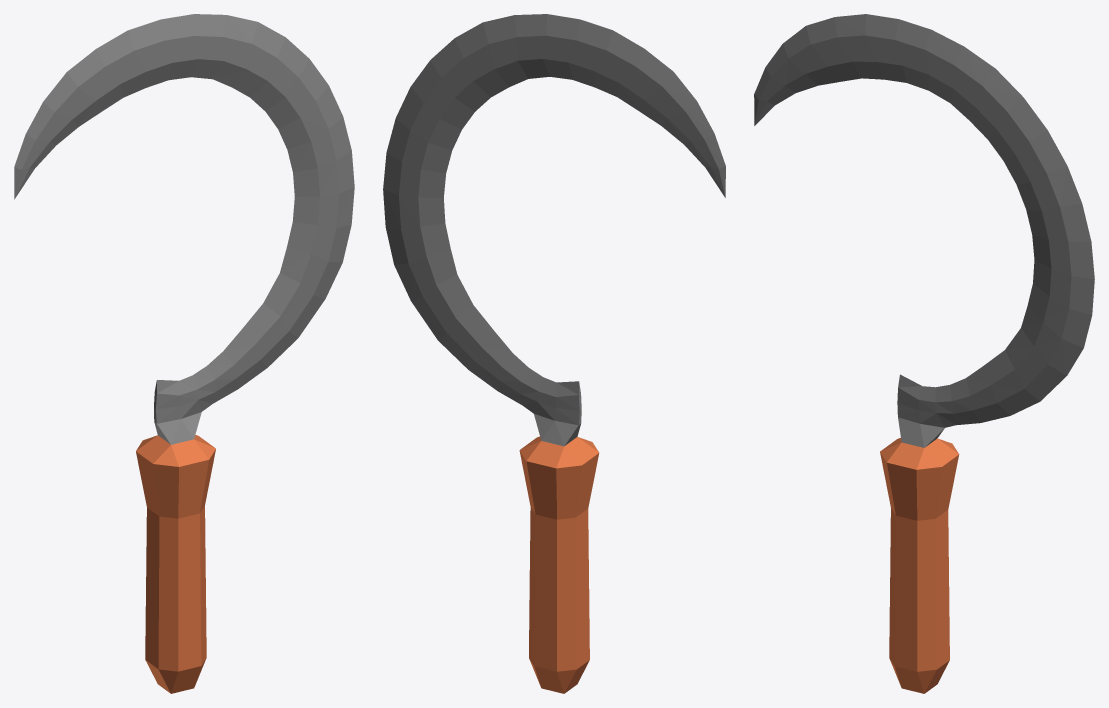
Rendered from sickle.dae.
3 renders of one model, left to right at view 1: azimuth 30°, elevation 25°; view 2: azimuth 150°, elevation 25°; view 3: azimuth 330°, elevation 25°, orthographic.
Visible parts, largest first — view 1: sickle; view 2: sickle; view 3: sickle.
Boxes of the visible parts, <box> form: sickle: <box>14,14,354,693</box>; sickle: <box>383,14,725,693</box>; sickle: <box>754,14,1094,693</box>.
Bounding box in the file's own units: 2.2 × 0.4043 × 4.13.
